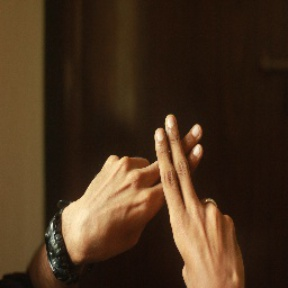F: (125, 99, 236, 247)
